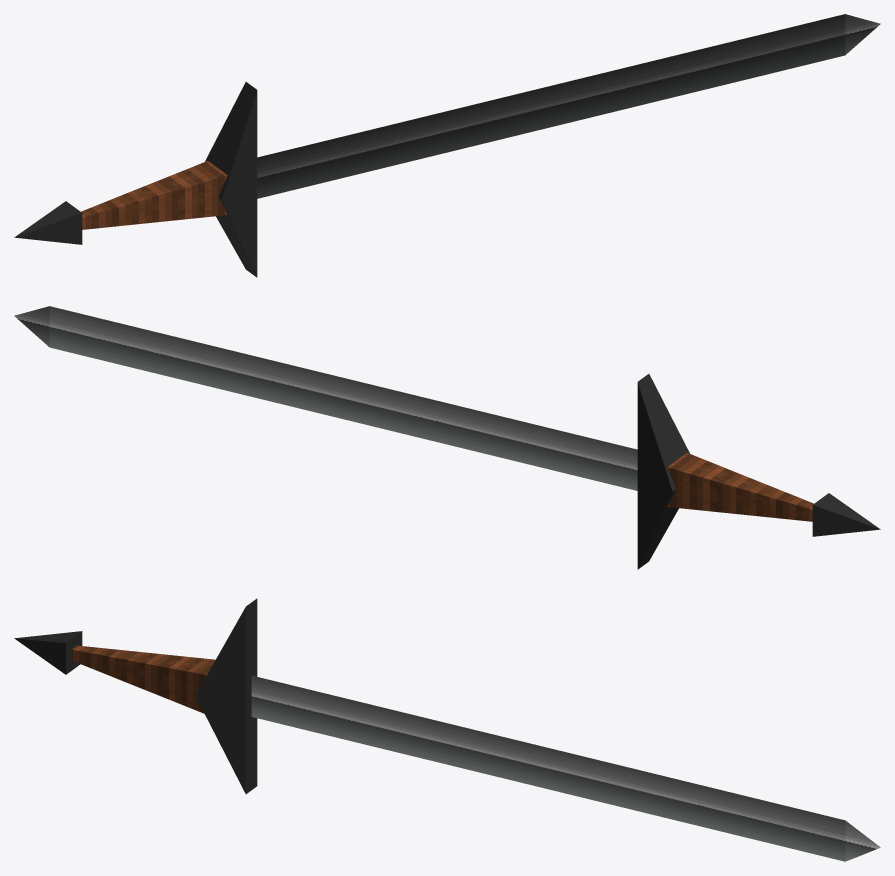
3 renders of one model, top to bottom at view 1: azimuth 30°, elevation 25°; view 2: azimuth 150°, elevation 25°; view 3: azimuth 330°, elevation 25°, orthographic.
Parts seen in each view (by area): view 1: IT1_DMSPRITEDEF_node; view 2: IT1_DMSPRITEDEF_node; view 3: IT1_DMSPRITEDEF_node.
Boxes of the visible parts, x1,y1,x2,y2 form: IT1_DMSPRITEDEF_node: (14, 14, 880, 277); IT1_DMSPRITEDEF_node: (14, 306, 880, 569); IT1_DMSPRITEDEF_node: (14, 598, 880, 861).
Size of the model in its own units: 2.75 by 0.5691 by 0.1481.
Materials: 3 (3 with a texture image).
